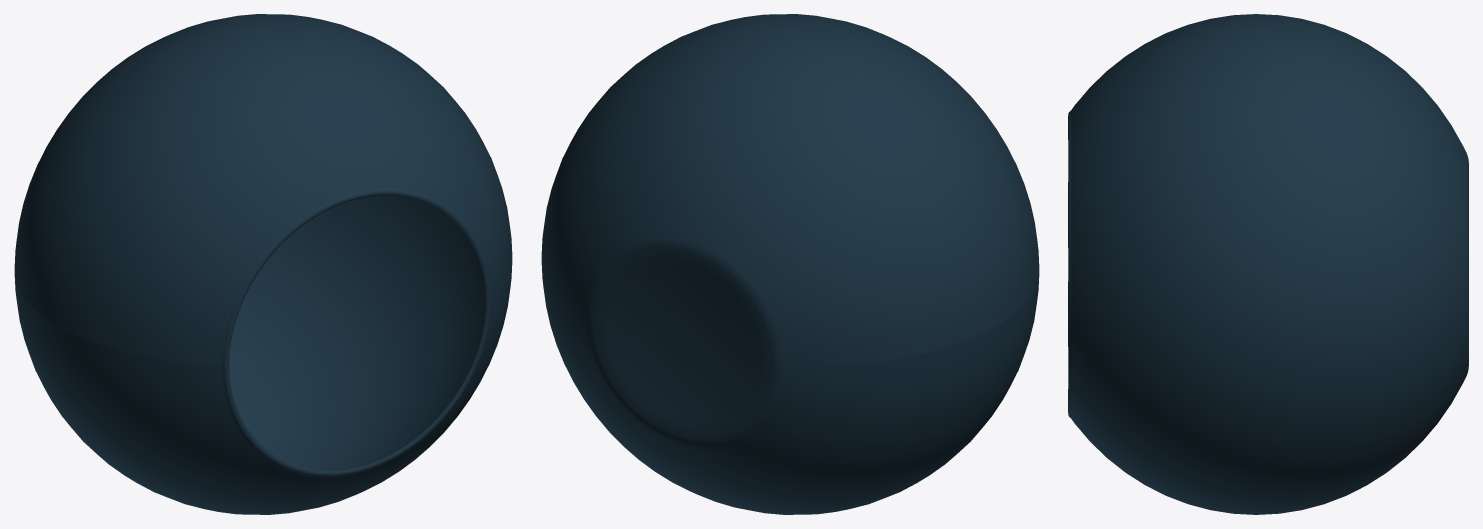
Rendered from simple_fish_bowl.dae.
The picture shows the model from 3 angles, left to right: view 1: azimuth 30°, elevation 25°; view 2: azimuth 150°, elevation 25°; view 3: azimuth 270°, elevation 25°; orthographic projection.
Visible parts, largest first — view 1: node0; view 2: node0; view 3: node0.
Boxes of the visible parts, left/top/right/bottom form: node0: left=14, top=14, right=512, bottom=514; node0: left=541, top=14, right=1039, bottom=514; node0: left=1068, top=14, right=1468, bottom=514.
Size of the model in its own units: 0.2 by 0.2 by 0.1598.
